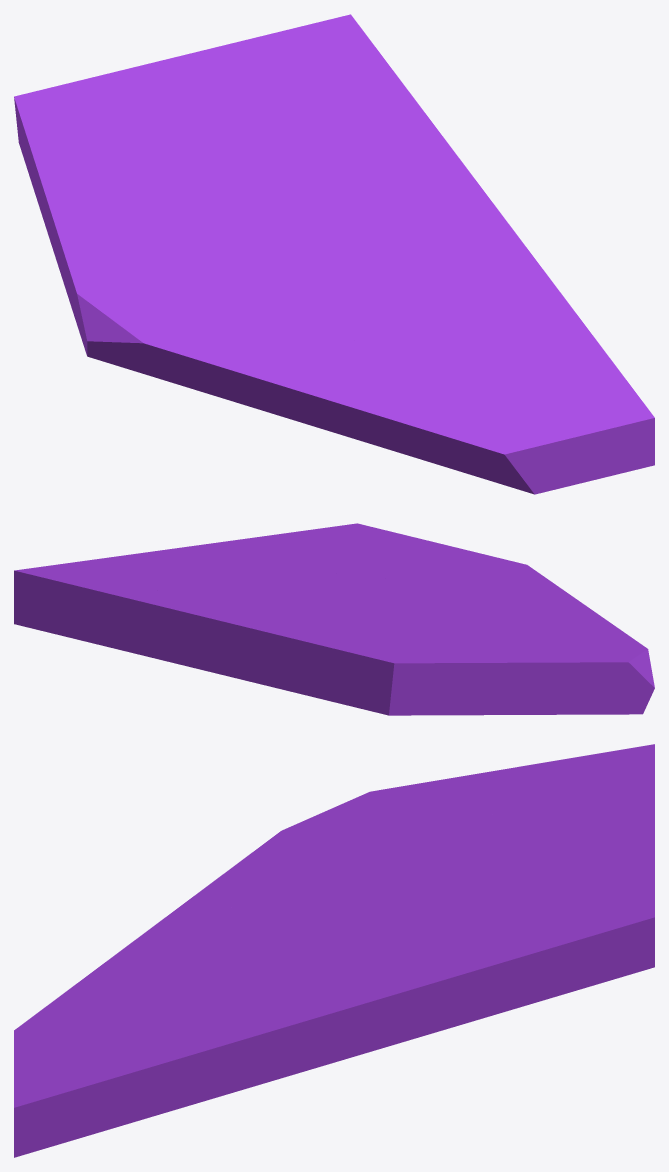
File: Window_163_1_chunks.fbx
The picture shows the model from 3 angles, top to bottom: view 1: azimuth 30°, elevation 25°; view 2: azimuth 150°, elevation 25°; view 3: azimuth 270°, elevation 25°; orthographic projection. The views are drawn at different scales.
Visible parts, largest first — view 1: Window_163_1_10, Window_163_1_7, Window_163_1_4, Window_163_1_1, Window_163_1_28, Window_163_1_2, Window_163_1_33, Window_163_1_3, Window_163_1_13, Window_163_1_8, Window_163_1_20, Window_163_1_27 (+13 smaller); view 2: Window_163_1_10, Window_163_1_13, Window_163_1_4, Window_163_1_2, Window_163_1_33, Window_163_1_28, Window_163_1_3, Window_163_1_1, Window_163_1_20, Window_163_1_7, Window_163_1_32, Window_163_1_29 (+12 smaller); view 3: Window_163_1_33, Window_163_1_27, Window_163_1_32, Window_163_1_10, Window_163_1_29, Window_163_1_4, Window_163_1_28, Window_163_1_1, Window_163_1_3, Window_163_1_13, Window_163_1_20, Window_163_1_7 (+13 smaller).
Part boxes in pixels (box(x1,y1,x2,y2)): Window_163_1_10: box(14, 70, 205, 215); Window_163_1_7: box(383, 385, 648, 494); Window_163_1_4: box(41, 182, 257, 332); Window_163_1_1: box(170, 339, 397, 421); Window_163_1_28: box(391, 300, 569, 416); Window_163_1_2: box(71, 271, 194, 381); Window_163_1_33: box(312, 14, 441, 154); Window_163_1_3: box(184, 295, 366, 351); Window_163_1_13: box(121, 19, 330, 97); Window_163_1_8: box(269, 322, 472, 446); Window_163_1_20: box(201, 91, 300, 219); Window_163_1_27: box(545, 332, 654, 453); Window_163_1_10: box(269, 620, 496, 715); Window_163_1_13: box(26, 576, 273, 686); Window_163_1_4: box(396, 613, 615, 715); Window_163_1_2: box(543, 635, 654, 714); Window_163_1_33: box(14, 556, 196, 625); Window_163_1_28: box(321, 545, 444, 584); Window_163_1_3: box(438, 591, 619, 636); Window_163_1_1: box(470, 589, 631, 637); Window_163_1_20: box(177, 593, 387, 621); Window_163_1_7: box(417, 538, 558, 586); Window_163_1_32: box(118, 545, 275, 570); Window_163_1_29: box(201, 533, 323, 557); Window_163_1_33: box(450, 904, 654, 995); Window_163_1_27: box(14, 1043, 217, 1149); Window_163_1_32: box(307, 953, 477, 1060); Window_163_1_10: box(471, 744, 654, 851); Window_163_1_29: box(149, 997, 317, 1096); Window_163_1_4: box(349, 765, 530, 885); Window_163_1_28: box(44, 962, 252, 1062); Window_163_1_1: box(93, 857, 253, 971); Window_163_1_3: box(213, 849, 327, 948); Window_163_1_13: box(597, 799, 654, 906); Window_163_1_20: box(408, 849, 572, 902); Window_163_1_7: box(14, 977, 116, 1080).
Bounding box in the file's own units: 919 × 482 × 1165.
